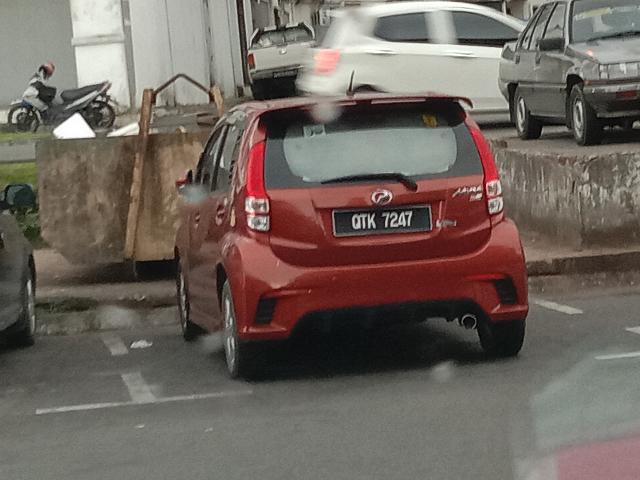License_Plate: (332, 206, 433, 239)
car: (167, 88, 533, 378)
